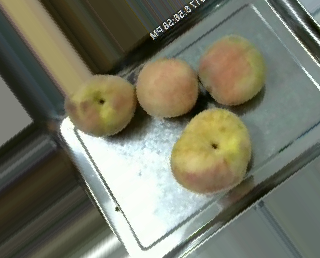Peach: (169, 107, 252, 195), (197, 34, 266, 106), (64, 71, 135, 136), (134, 56, 199, 118)
